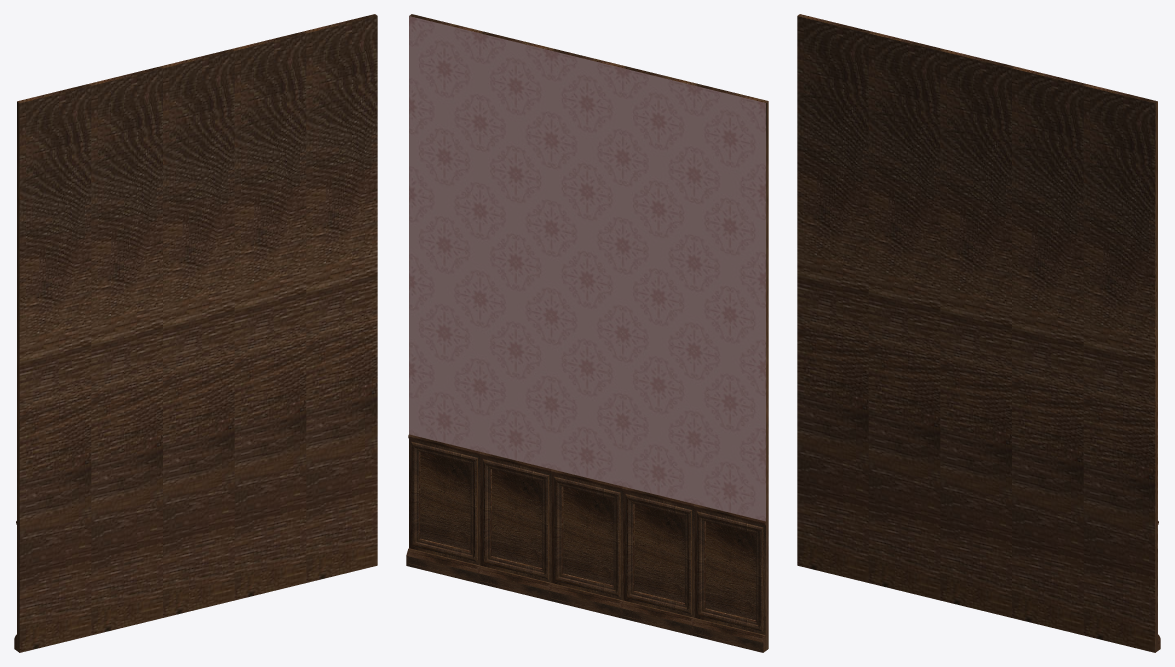
Rendered from Mur_Fille_5X.fbx.
3 views of the same model, side by side, from view 1: azimuth 30°, elevation 25°; view 2: azimuth 150°, elevation 25°; view 3: azimuth 330°, elevation 25° (orthographic).
Visible parts, largest first — view 1: Cube; view 2: Cube; view 3: Cube.
Part boxes in pixels (x1,y1,x2,y2): Cube: (14, 14, 377, 652); Cube: (406, 14, 768, 652); Cube: (797, 14, 1160, 652).
Bounding box in the file's own units: 750 × 1100 × 20.
